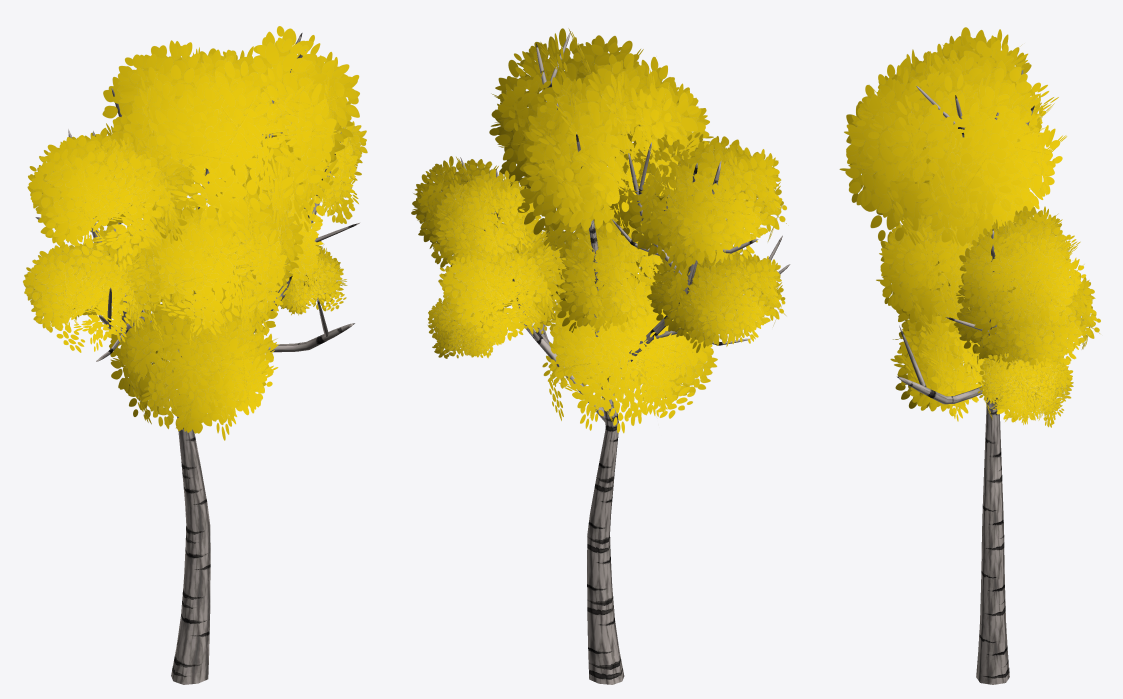
Rendered from BirchTree_3.glb.
The picture shows the model from 3 angles, left to right: view 1: azimuth 30°, elevation 25°; view 2: azimuth 150°, elevation 25°; view 3: azimuth 270°, elevation 25°; orthographic projection. The views are drawn at different scales.
Visible parts, largest first — view 1: BirchTree_3; view 2: BirchTree_3; view 3: BirchTree_3.
Boxes of the visible parts, bbox=[...] form: BirchTree_3: bbox=[23, 26, 367, 684]; BirchTree_3: bbox=[411, 28, 790, 684]; BirchTree_3: bbox=[839, 27, 1100, 684].
Size of the model in its own units: 3.43 by 5.75 by 2.27.
Materials: 2 (2 with a texture image).
